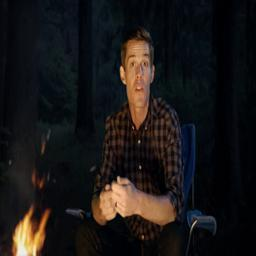fire: (12, 205, 50, 256)
